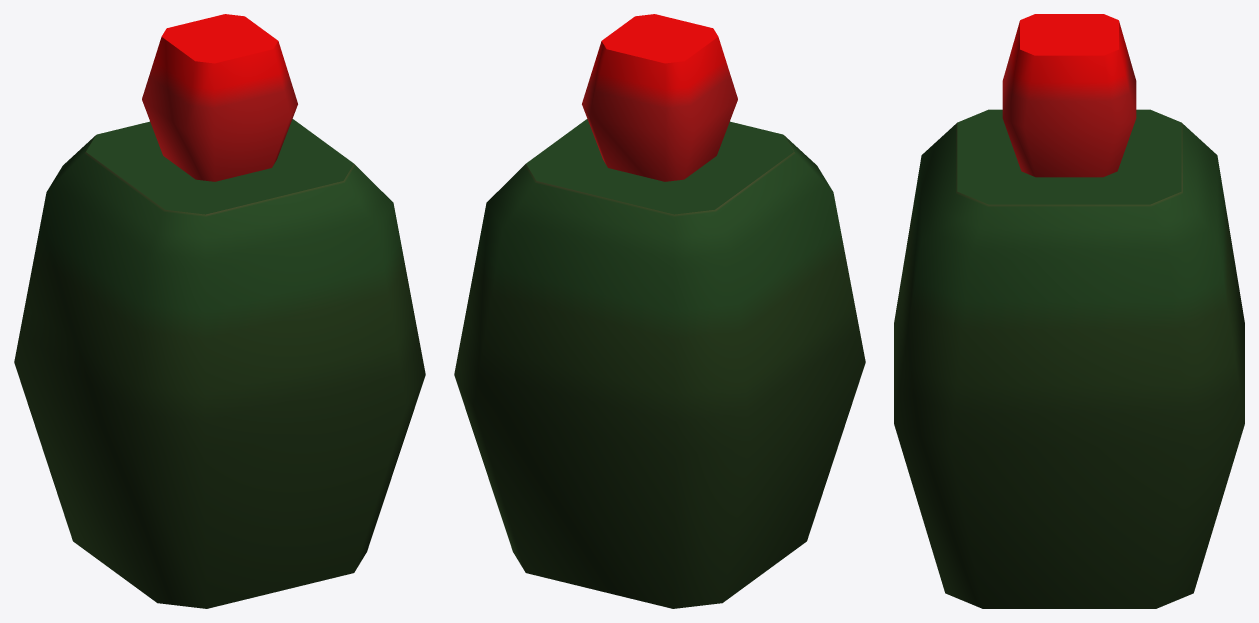
Rendered from cactus_v060.fbx.
3 renders of one model, left to right at view 1: azimuth 30°, elevation 25°; view 2: azimuth 150°, elevation 25°; view 3: azimuth 270°, elevation 25°, orthographic. The views are drawn at different scales.
Parts seen in each view (by area): view 1: cactus_v060; view 2: cactus_v060; view 3: cactus_v060.
Part boxes in pixels (x1,y1,x2,y2): cactus_v060: (14, 14, 425, 608); cactus_v060: (454, 14, 865, 608); cactus_v060: (894, 14, 1244, 608).
Bounding box in the file's own units: 94.08 × 154 × 94.08.
